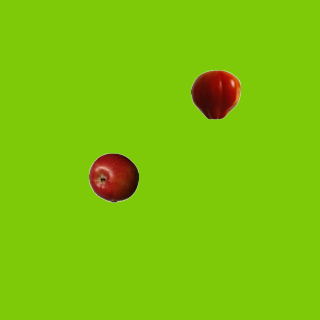Apple Braeburn: (88, 152, 138, 202)
Tomato 1: (190, 69, 240, 119)
